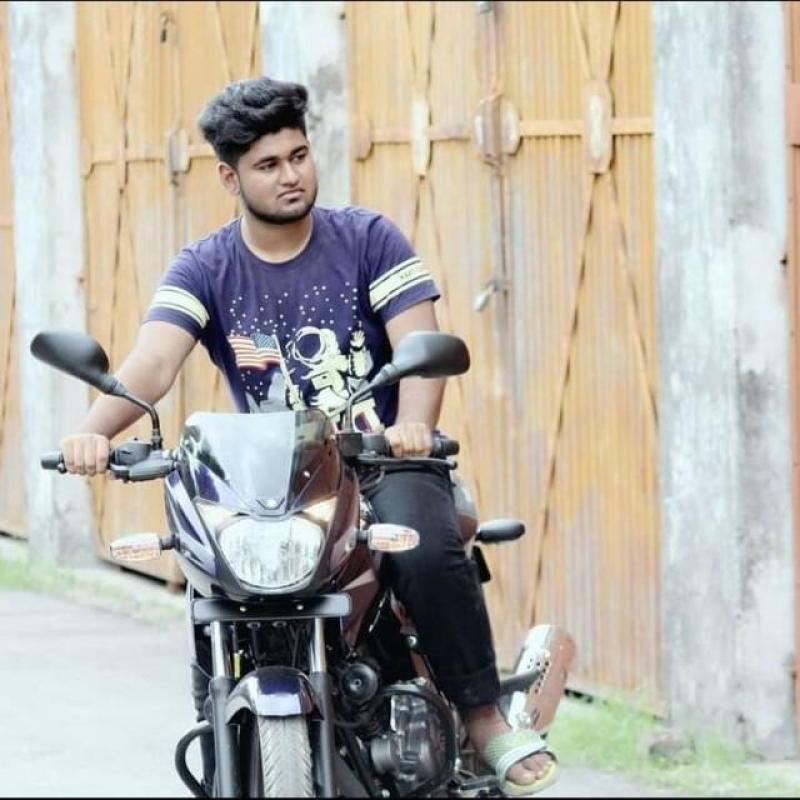nohelmet: (202, 72, 348, 240)
